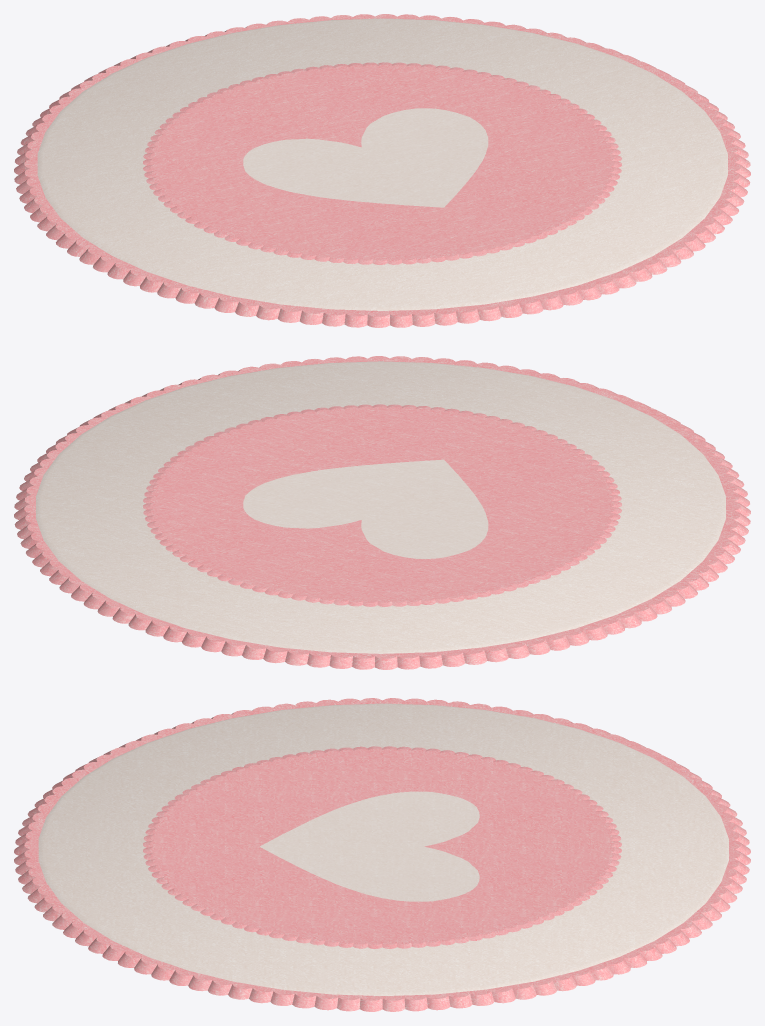
The model's file is Doll_OB_Rug_001.FBX.
The picture shows the model from 3 angles, top to bottom: view 1: azimuth 30°, elevation 25°; view 2: azimuth 150°, elevation 25°; view 3: azimuth 270°, elevation 25°; orthographic projection.
Parts seen in each view (by area): view 1: Doll_OB_Rug_001; view 2: Doll_OB_Rug_001; view 3: Doll_OB_Rug_001.
Boxes of the visible parts, box(x1,y1,x2,y2) form: Doll_OB_Rug_001: box(14, 14, 750, 327); Doll_OB_Rug_001: box(14, 356, 750, 669); Doll_OB_Rug_001: box(14, 698, 750, 1011).
Size of the model in its own units: 253 by 3.59 by 253.
